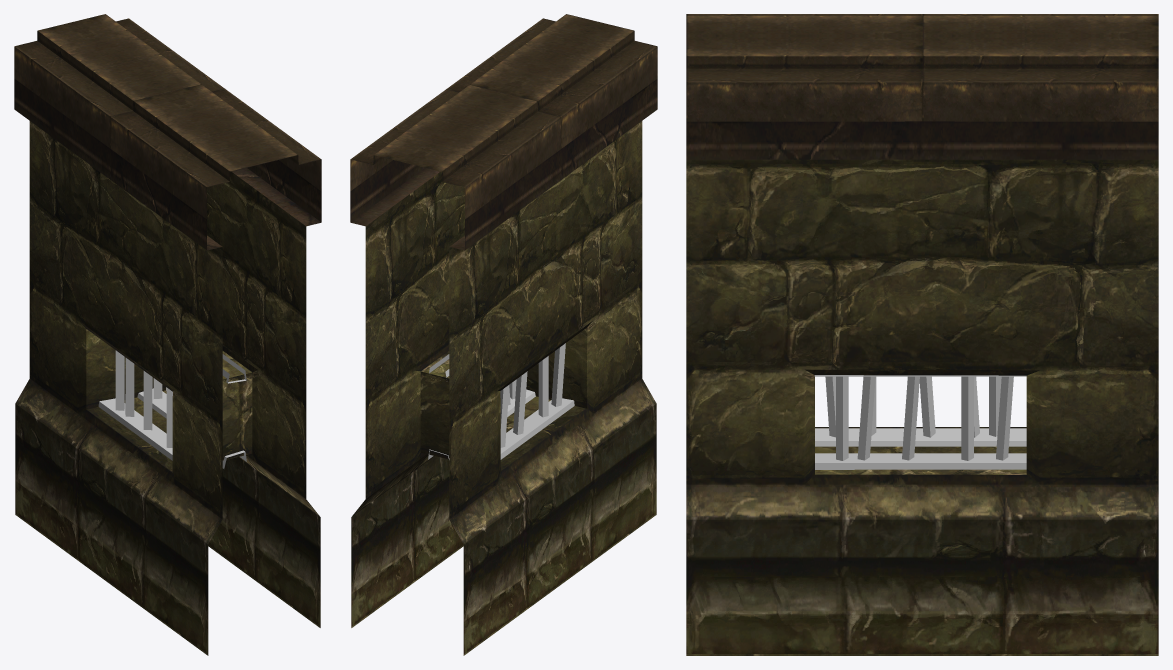
File: Stage001_WALL_03.FBX
3 renders of one model, left to right at view 1: azimuth 30°, elevation 25°; view 2: azimuth 150°, elevation 25°; view 3: azimuth 270°, elevation 25°, orthographic. The views are drawn at different scales.
Visible parts, largest first — view 1: Stage001_WALL_03; view 2: Stage001_WALL_03; view 3: Stage001_WALL_03.
Part boxes in pixels (x1,y1,x2,y2): Stage001_WALL_03: (14, 14, 321, 655); Stage001_WALL_03: (350, 14, 657, 655); Stage001_WALL_03: (686, 14, 1158, 655).
Size of the model in its own units: 172 by 685 by 500.
